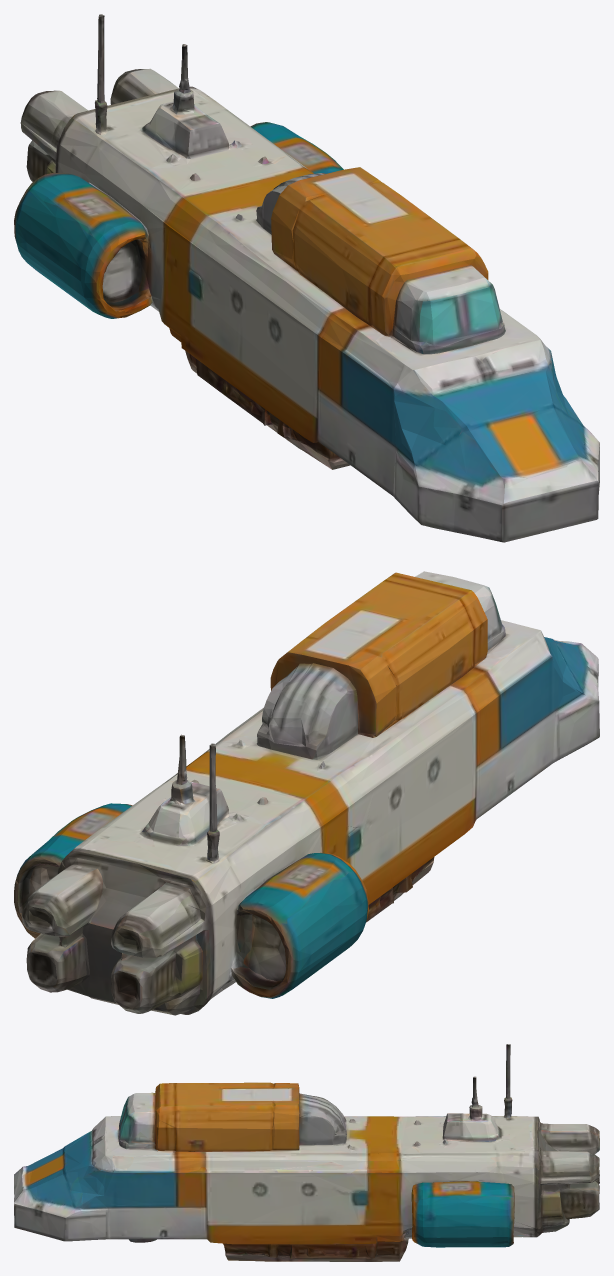
Rendered from 3-ship-float.glb.
The picture shows the model from 3 angles, top to bottom: view 1: azimuth 30°, elevation 25°; view 2: azimuth 150°, elevation 25°; view 3: azimuth 270°, elevation 25°; orthographic projection. The views are drawn at different scales.
Parts seen in each view (by area): view 1: world; view 2: world; view 3: world.
Boxes of the visible parts, box(x1,y1,x2,y2) form: world: box(14, 14, 599, 542); world: box(14, 571, 599, 1015); world: box(14, 1044, 599, 1261).
Bounding box in the file's own units: 0.3528 × 0.349 × 1.
1 material, 1 textured.
